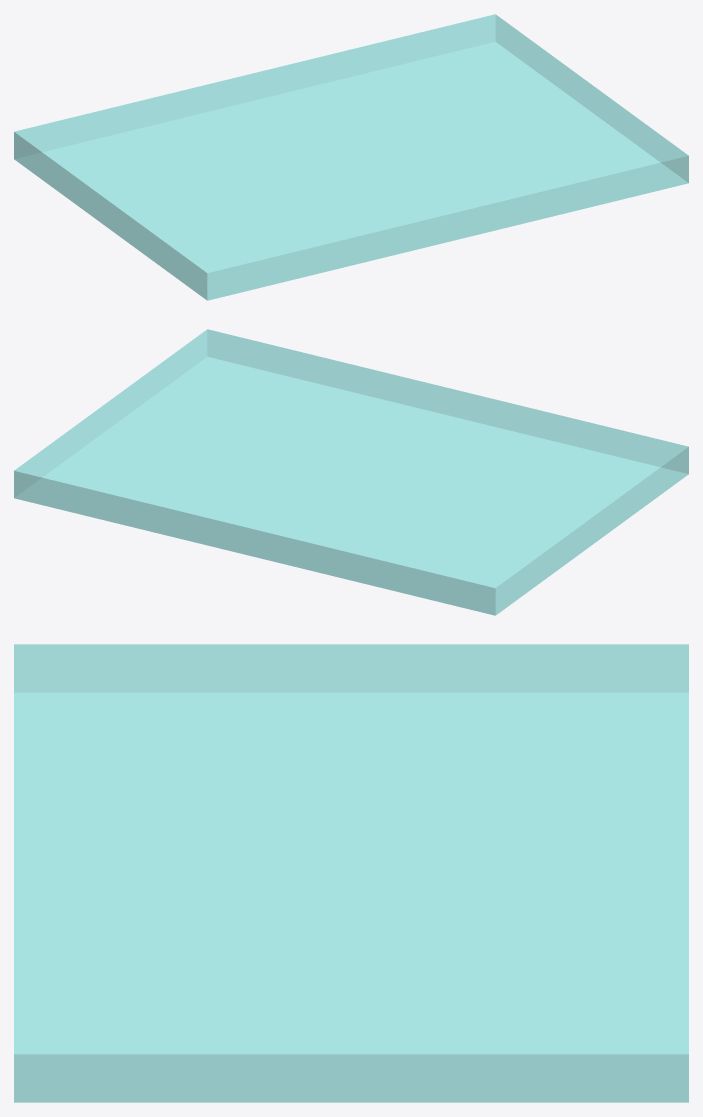
File: water.dae
The picture shows the model from 3 angles, top to bottom: view 1: azimuth 30°, elevation 25°; view 2: azimuth 150°, elevation 25°; view 3: azimuth 270°, elevation 25°; orthographic projection. The views are drawn at different scales.
Parts seen in each view (by area): view 1: water; view 2: water; view 3: water.
Part boxes in pixels (x1,y1,x2,y2): water: [14, 14, 688, 300]; water: [14, 329, 688, 615]; water: [14, 644, 688, 1102].
Bounding box in the file's own units: 36.59 × 25.46 × 2.
